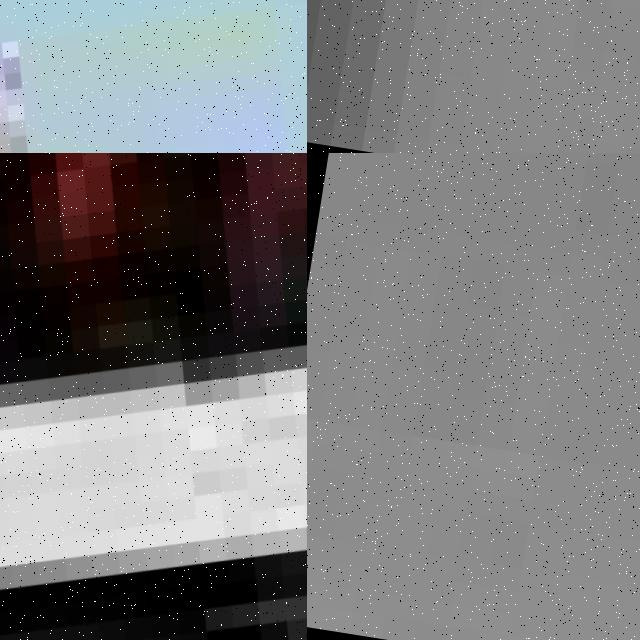drone: (0, 153, 307, 640), (0, 0, 307, 153)
